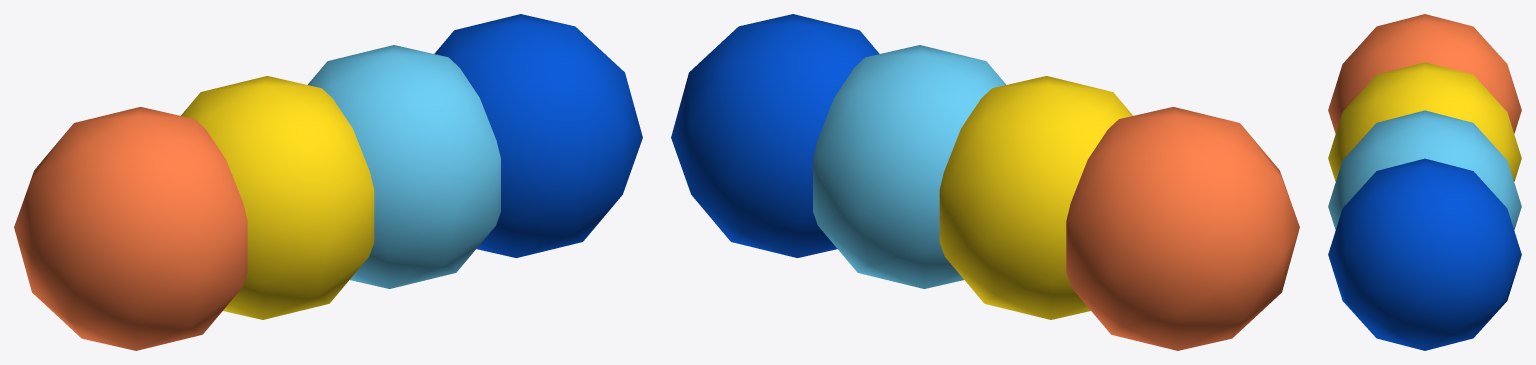
The model's file is viewer-default-annotations.obj.
The picture shows the model from 3 angles, left to right: view 1: azimuth 30°, elevation 25°; view 2: azimuth 150°, elevation 25°; view 3: azimuth 270°, elevation 25°; orthographic projection. The views are drawn at different scales.
Bounding box in the file's own units: 18.8 × 6.8 × 6.8.
